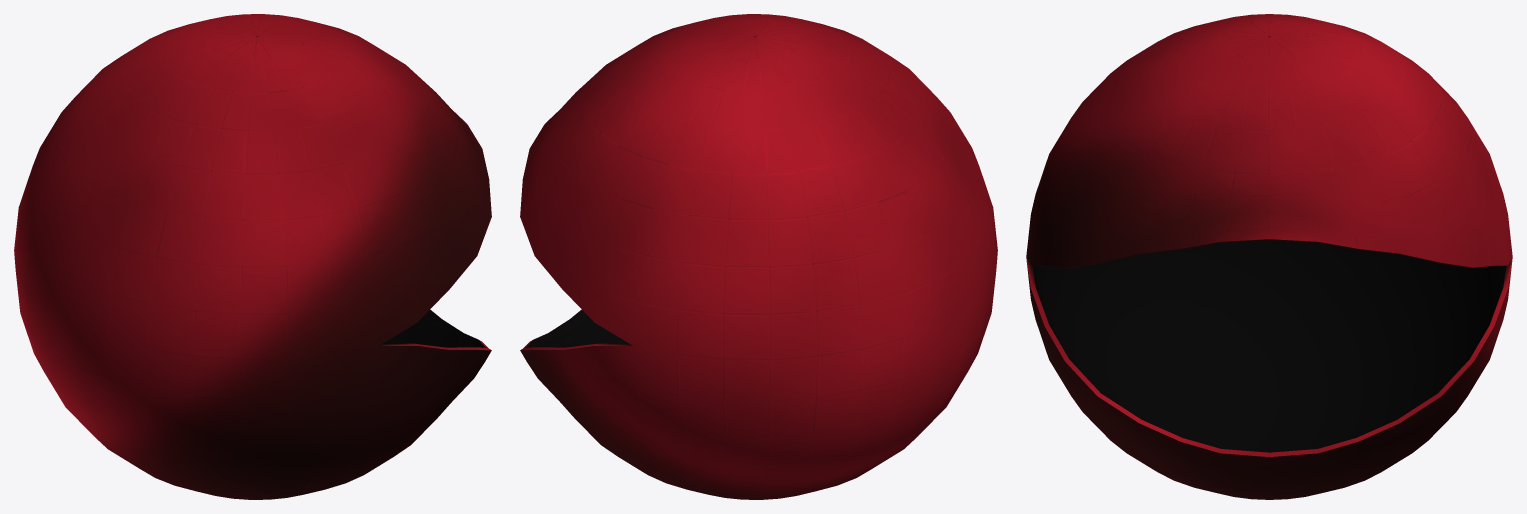
File: eye_outer.fbx
3 views of the same model, side by side, from view 1: azimuth 30°, elevation 25°; view 2: azimuth 150°, elevation 25°; view 3: azimuth 270°, elevation 25° (orthographic).
Parts seen in each view (by area): view 1: eye_outer; view 2: eye_outer; view 3: eye_outer.
Part boxes in pixels (x1=…): eye_outer: x1=14, y1=14, x2=491, y2=499; eye_outer: x1=520, y1=14, x2=997, y2=499; eye_outer: x1=1026, y1=14, x2=1512, y2=499.
Size of the model in its own units: 189 by 200 by 200.
1 material, 1 textured.
